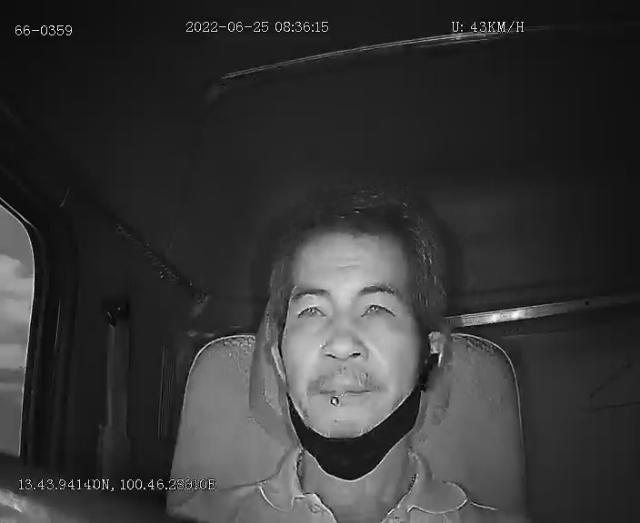SafeDriving: (354, 290, 398, 326), (289, 292, 333, 327)
Smoking: (330, 390, 342, 406)
